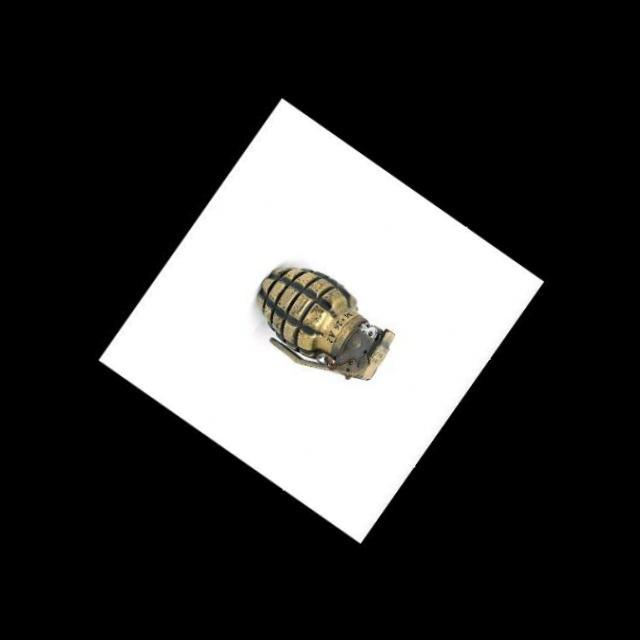grenade: (242, 233, 402, 412)
